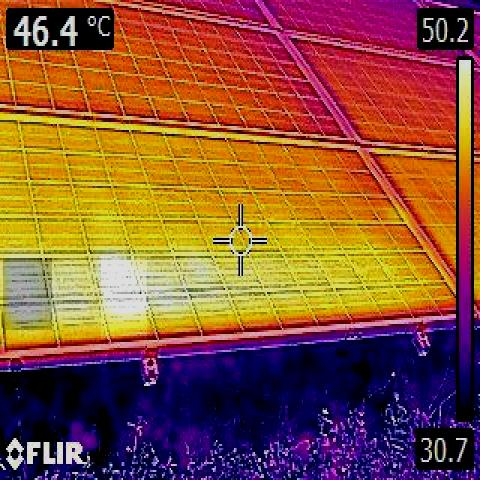fault: (102, 256, 148, 339), (3, 258, 52, 330)
